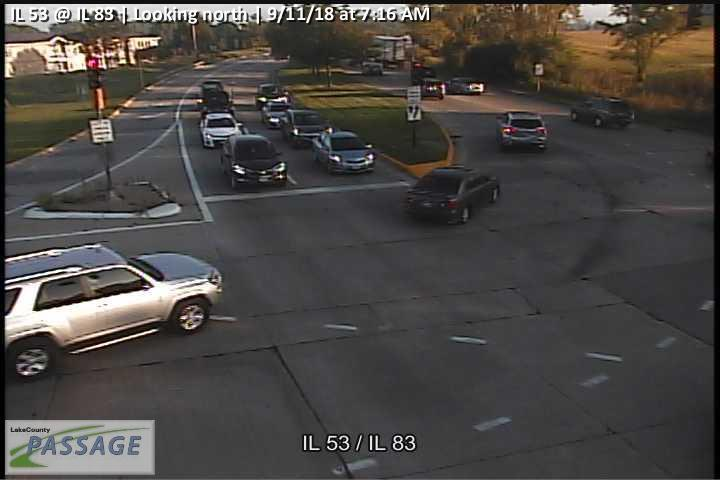SUV: (5, 242, 224, 381), (220, 135, 287, 187), (568, 95, 634, 128), (496, 111, 549, 151), (278, 108, 330, 148), (255, 82, 287, 108), (417, 77, 446, 99), (409, 62, 435, 84)
Sedan: (405, 165, 500, 224), (312, 130, 375, 175), (199, 113, 243, 148), (261, 101, 295, 129), (446, 76, 484, 94)
